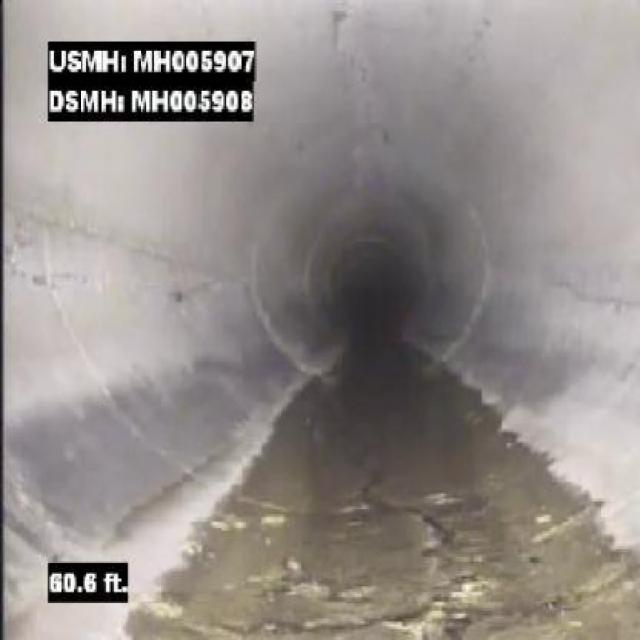Crack: (398, 504, 469, 638), (326, 9, 377, 97), (552, 272, 638, 323), (10, 261, 121, 297), (154, 268, 246, 308)
